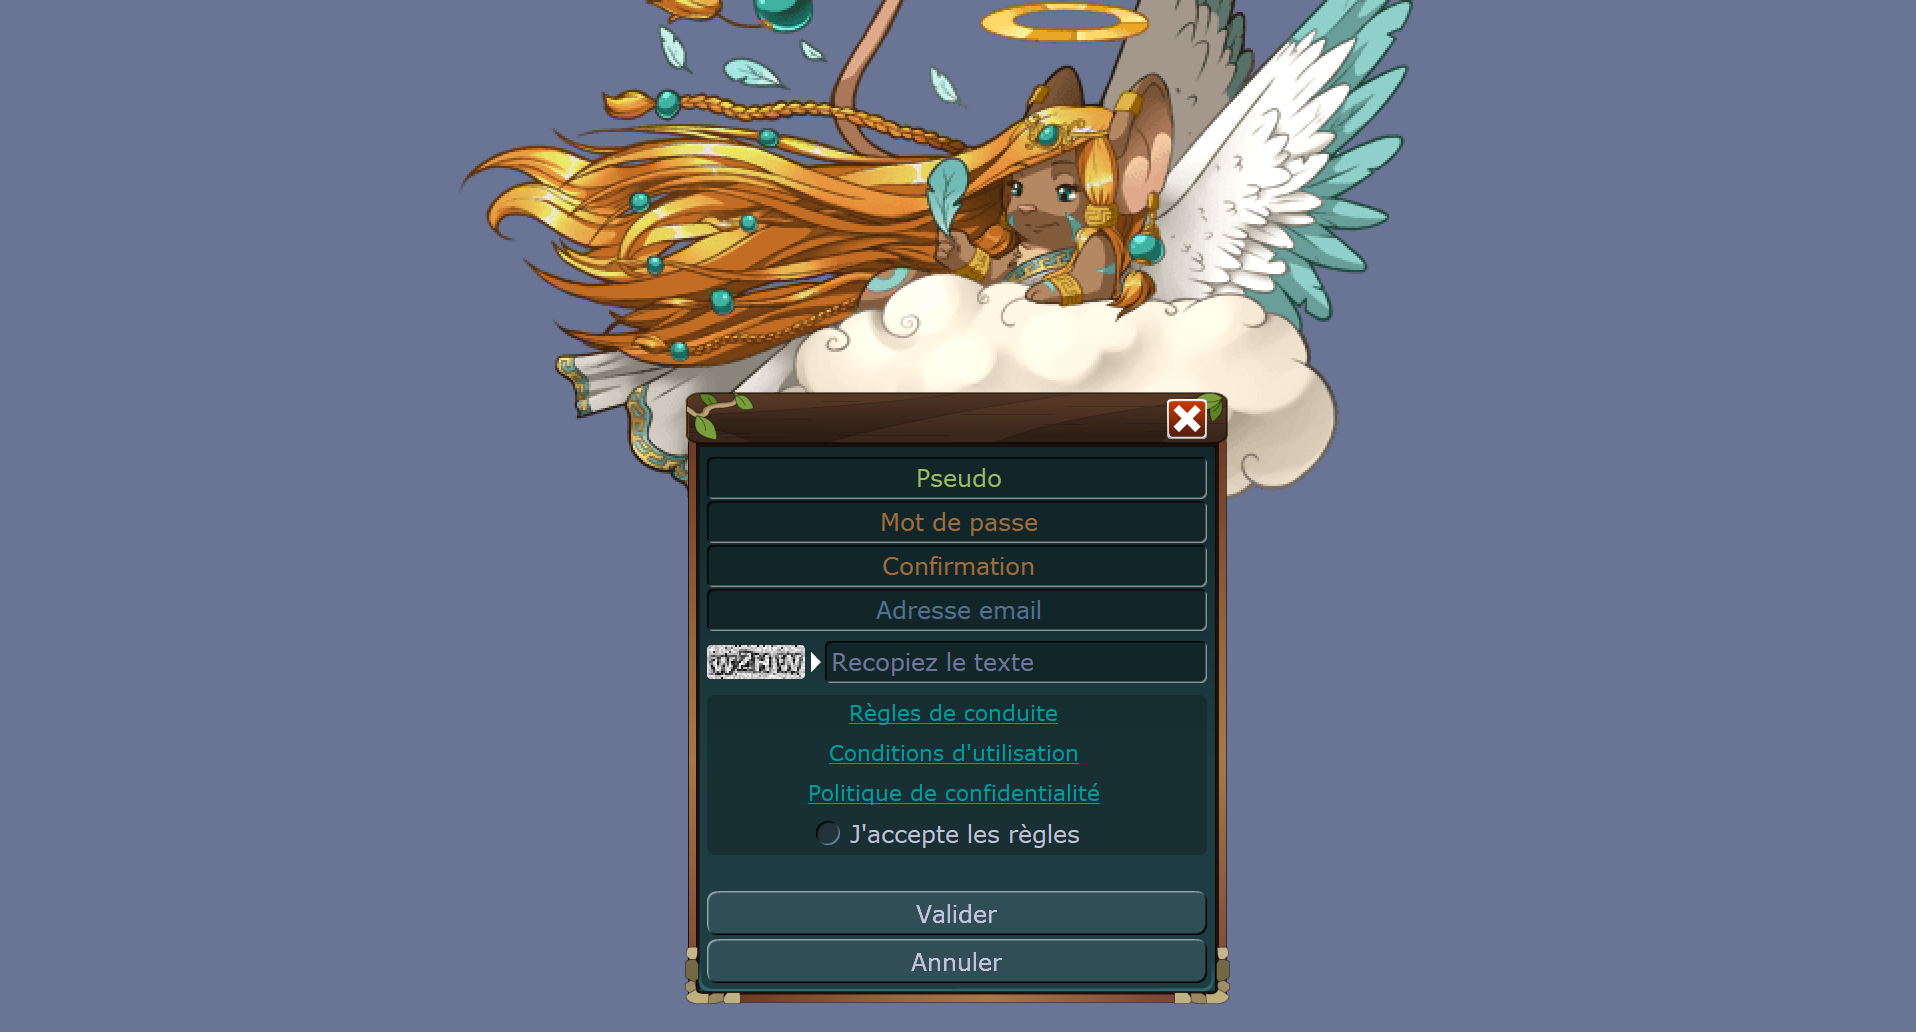CAPTCHA: (706, 644, 806, 680)
H: (753, 649, 772, 675)
W: (775, 651, 804, 675), (710, 655, 738, 675)
Z: (737, 649, 755, 675)
